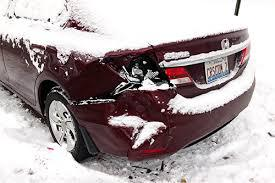rear-bumper-dent: (78, 86, 189, 153)
